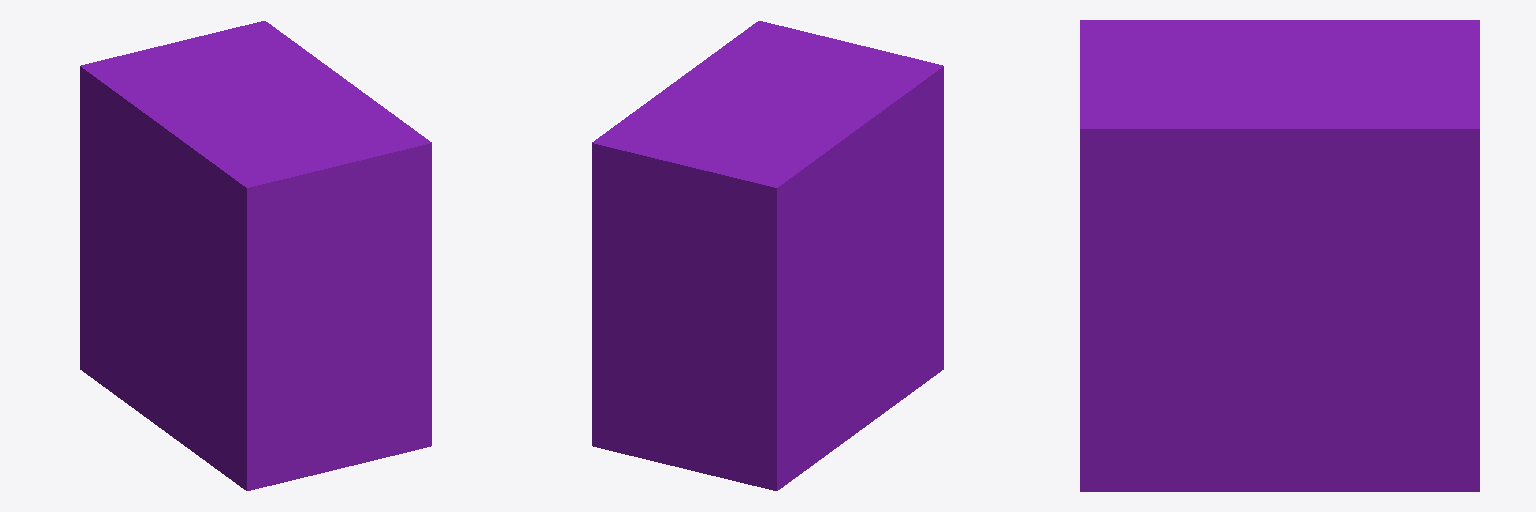
robot.urdf — camera_preview:
<?xml version="1.0"?>
<robot name="camera_preview">
  <link name="camera_front_link">
    <visual>
      <origin xyz="0 0 0" rpy="0 0 0"/>
      <geometry>
        <box size="0.032 0.05 0.05"/>
      </geometry>
      <material name="purple">
        <color rgba="0.6 0.2 0.8 1.0"/>
      </material>
    </visual>
  </link>
</robot>

--- Render facts (derived) ---
The picture shows the robot from 3 angles, left to right: view 1: azimuth 30°, elevation 25°; view 2: azimuth 150°, elevation 25°; view 3: azimuth 270°, elevation 25°; orthographic projection.
Robot: camera_preview — 1 links, 0 joints (none); root link camera_front_link; default pose: every joint at zero.
Links seen in each view (by area): view 1: camera_front_link; view 2: camera_front_link; view 3: camera_front_link.
Boxes of the visible links, x1,y1,x2,y2 form: camera_front_link: (80,21,431,490); camera_front_link: (592,21,943,490); camera_front_link: (1080,20,1479,491).
Bounding box of the posed robot: 0.032 × 0.05 × 0.05 m (x, y, z).
Geometry: primitives only (box / cylinder / sphere), no mesh files.
